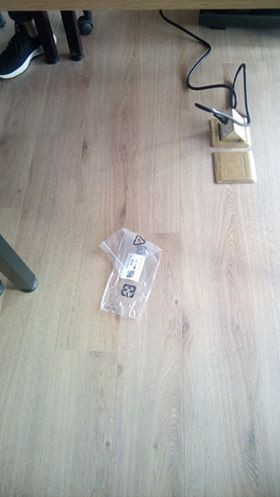plastic bag: (98, 225, 164, 318)
